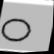no answer: (0, 16, 34, 45)
